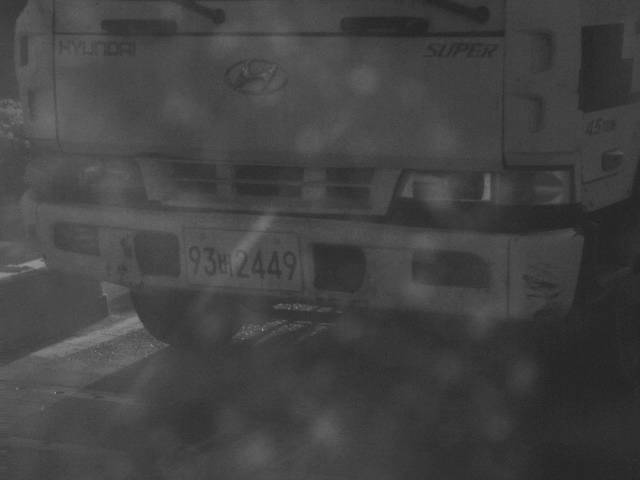car: (11, 1, 637, 374)
plate: (178, 226, 306, 292)
